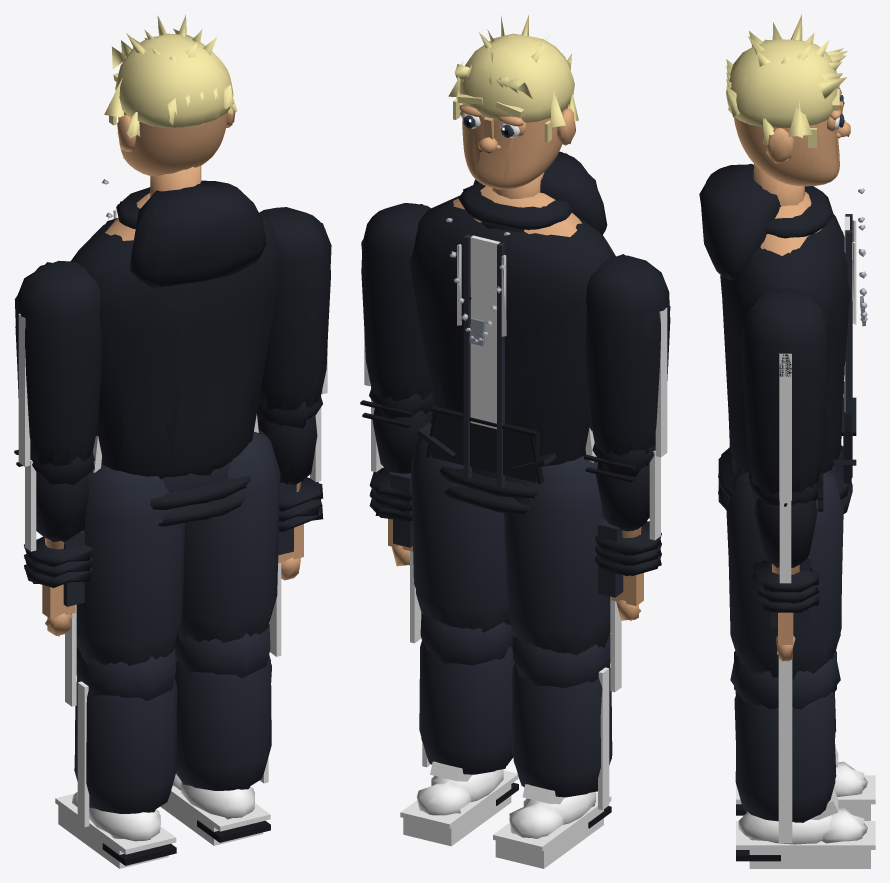
File: char_hero.glb
The picture shows the model from 3 angles, left to right: view 1: azimuth 30°, elevation 25°; view 2: azimuth 150°, elevation 25°; view 3: azimuth 270°, elevation 25°; orthographic projection. The views are drawn at different scales.
Visible parts, largest first — view 1: lod_low, torso_jacket, leg_L_pant, arm_L_sleeve, leg_R_pant, torso_hoodback, arm_R_sleeve, shin_R_pant, shin_L_pant, head_hair, head_skull, shin_R_d_f4f4f4 (+18 smaller); view 2: lod_low, torso_jacket, leg_L_pant, arm_L_sleeve, leg_R_pant, arm_R_sleeve, shin_R_pant, shin_L_pant, head_hair, shin_R_d_f4f4f4, torso_d_f4f4f4, torso_d_top (+24 smaller); view 3: lod_low, arm_R_sleeve, torso_jacket, leg_R_pant, shin_R_pant, head_hair, torso_hoodback, shin_R_d_f4f4f4, head_skull, shin_R_d_pants, forearm_R_sleeve, head_d_hair (+19 smaller).
Part boxes in pixels (box(x1,y1,x2,y2)): lod_low: box(14, 14, 331, 868); torso_jacket: box(70, 213, 278, 479); leg_L_pant: box(76, 465, 185, 664); arm_L_sleeve: box(15, 260, 102, 475); leg_R_pant: box(183, 430, 279, 641); torso_hoodback: box(130, 180, 266, 287); arm_R_sleeve: box(258, 207, 330, 418); shin_R_pant: box(175, 655, 271, 790); shin_L_pant: box(74, 678, 177, 813); head_hair: box(115, 33, 233, 128); head_skull: box(118, 112, 227, 176); shin_R_d_f4f4f4: box(160, 774, 270, 845); lod_low: box(361, 15, 670, 868); torso_jacket: box(413, 195, 615, 466); leg_L_pant: box(504, 456, 610, 653); arm_L_sleeve: box(585, 255, 670, 465); leg_R_pant: box(411, 421, 509, 629); arm_R_sleeve: box(361, 203, 431, 411); shin_R_pant: box(419, 640, 514, 774); shin_L_pant: box(511, 663, 612, 797); head_hair: box(459, 33, 574, 122); shin_R_d_f4f4f4: box(400, 764, 518, 846); torso_d_f4f4f4: box(470, 235, 500, 429); torso_d_top: box(416, 412, 556, 482); lod_low: box(699, 14, 870, 868); arm_R_sleeve: box(742, 288, 829, 505); torso_jacket: box(721, 214, 848, 472); leg_R_pant: box(727, 470, 843, 673); shin_R_pant: box(735, 692, 835, 821); head_hair: box(726, 39, 840, 128); torso_hoodback: box(700, 164, 779, 280); shin_R_d_f4f4f4: box(736, 790, 875, 849); head_skull: box(734, 116, 839, 186); shin_R_d_pants: box(734, 651, 836, 709); forearm_R_sleeve: box(754, 498, 816, 567); head_d_hair: box(726, 16, 846, 147).
Size of the model in its own units: 0.7726 by 1.96 by 0.3915.
